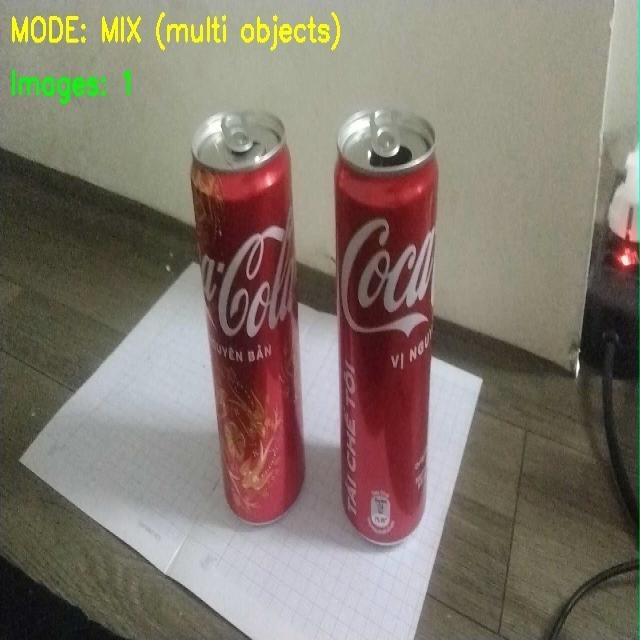Coca: (168, 103, 319, 538)
Coca_open: (325, 98, 466, 546)
